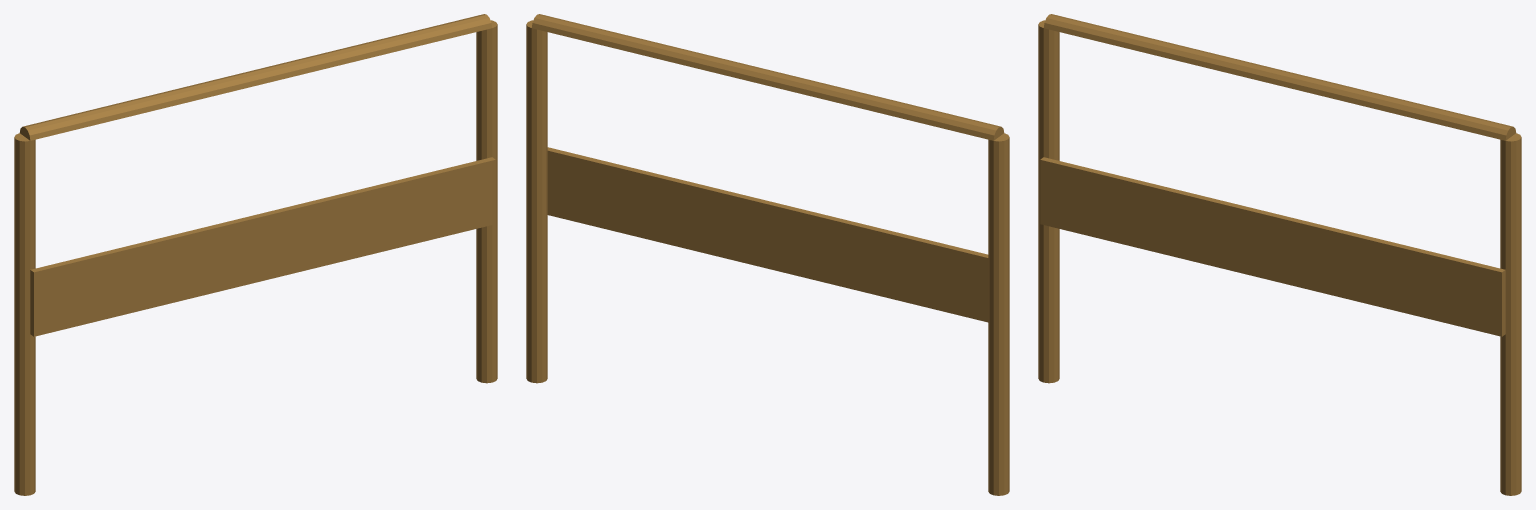
The model's file is M_Sem4_Prop_zaunEnde_FHaufe.fbx.
3 views of the same model, side by side, from view 1: azimuth 30°, elevation 25°; view 2: azimuth 150°, elevation 25°; view 3: azimuth 330°, elevation 25° (orthographic).
Parts seen in each view (by area): view 1: zaun_ende; view 2: zaun_ende; view 3: zaun_ende.
Boxes of the visible parts, x1=… form: zaun_ende: x1=14, y1=14, x2=497, y2=495; zaun_ende: x1=526, y1=14, x2=1009, y2=495; zaun_ende: x1=1038, y1=14, x2=1521, y2=495.
Bounding box in the file's own units: 156 × 113 × 8.
